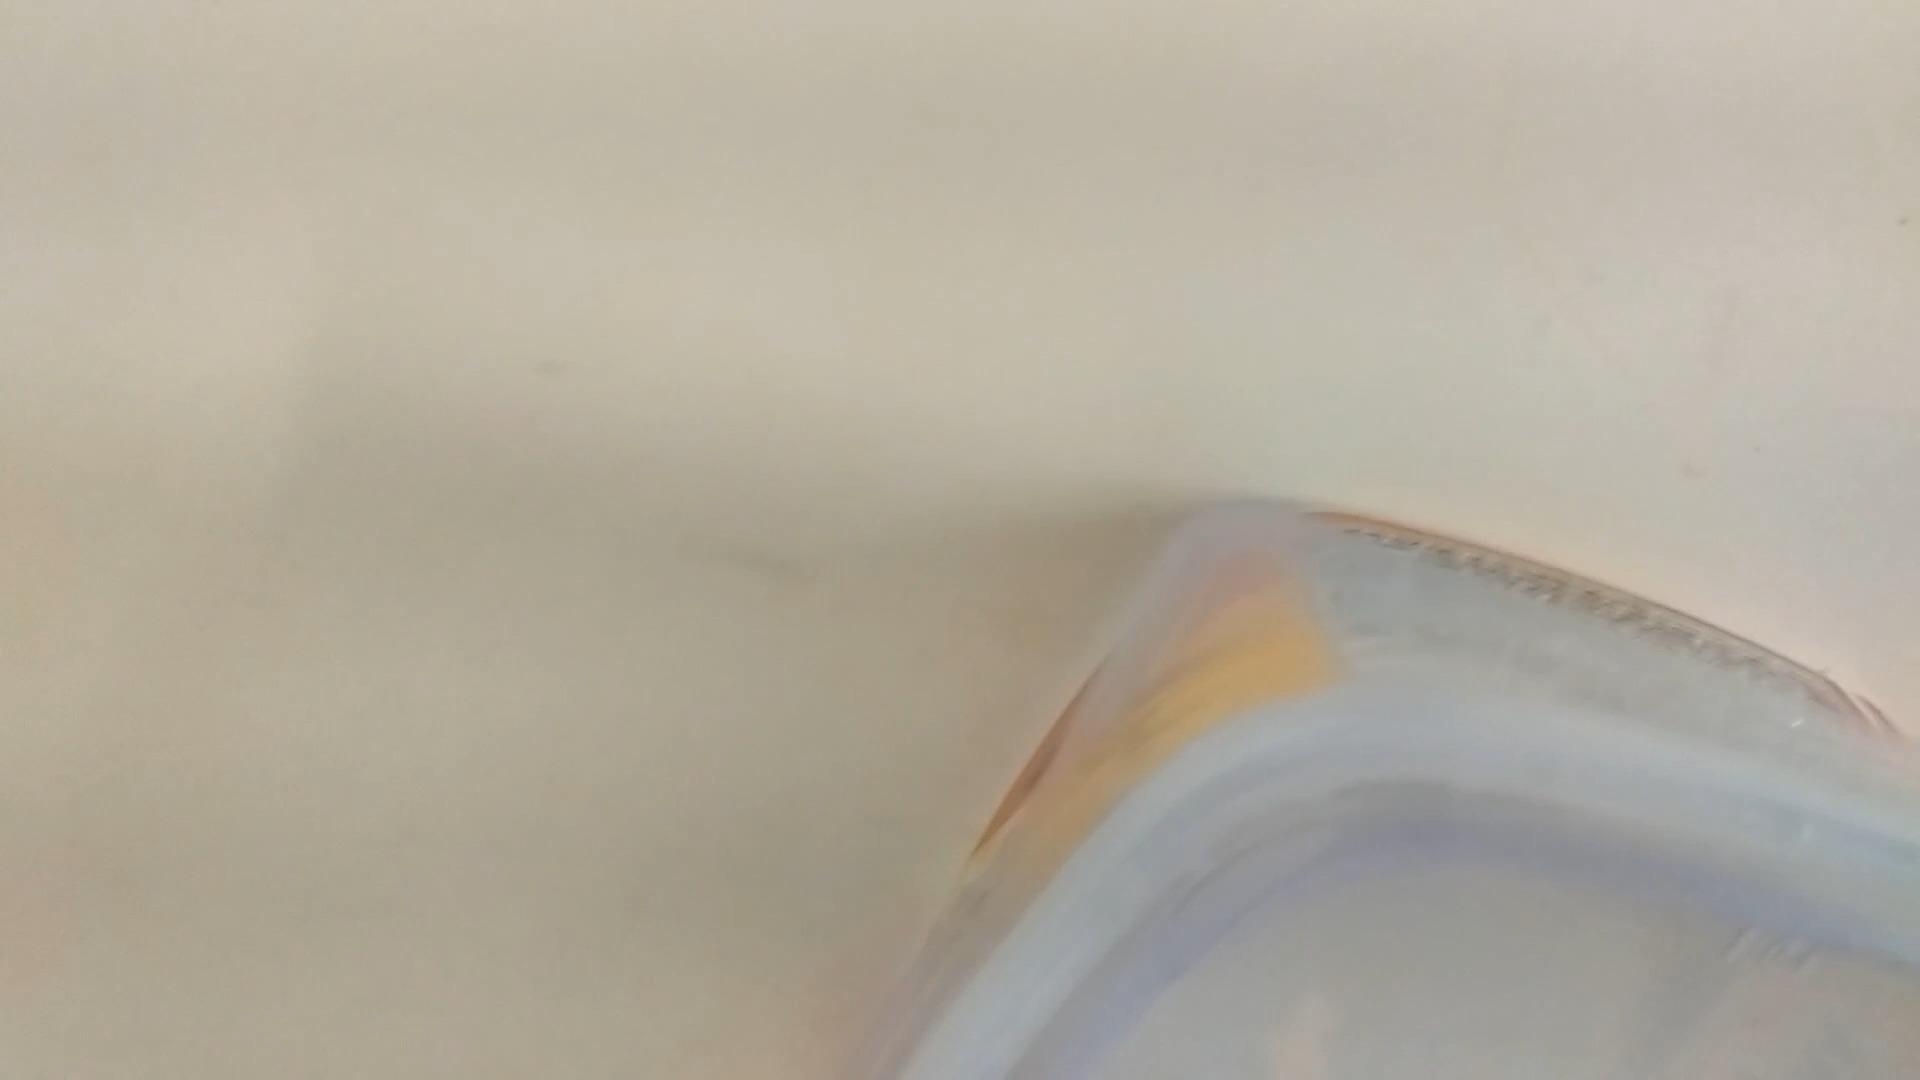butter: (845, 475, 1920, 1080)
